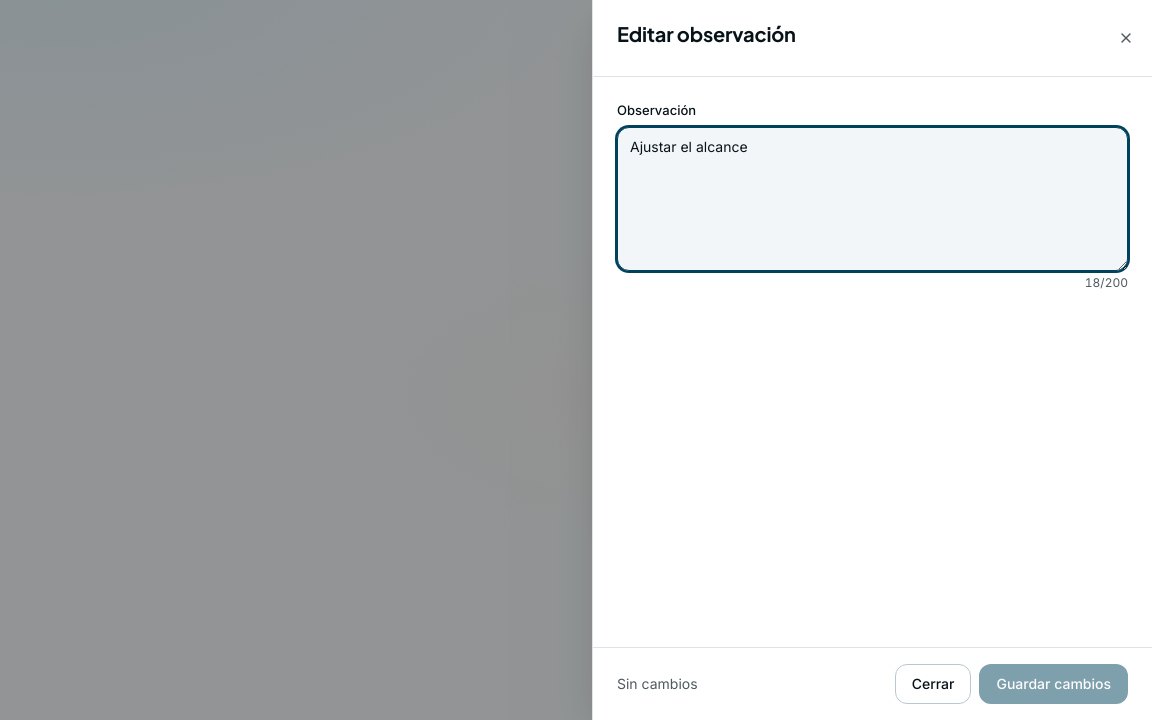
Scenario: EditarObservacionEvaluacionForm › cerrar sin cambios reinicia la mutación y cierra; con cambios pide confirmar
The width and height of the screenshot is (1152, 720).
Click the button "Cerrar".
click(933, 684)  # box [895,664,972,704]
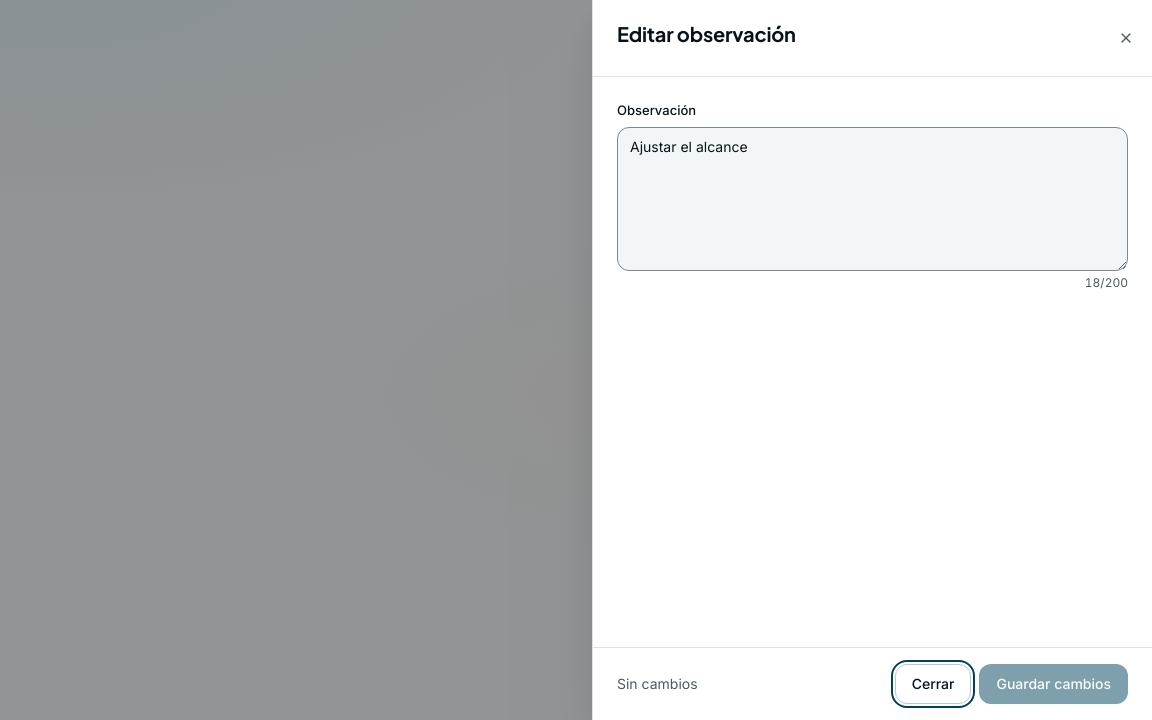
Type "!" into the text box labelled "Observación".
click(872, 198); type("!")  # box [617,126,1128,270]
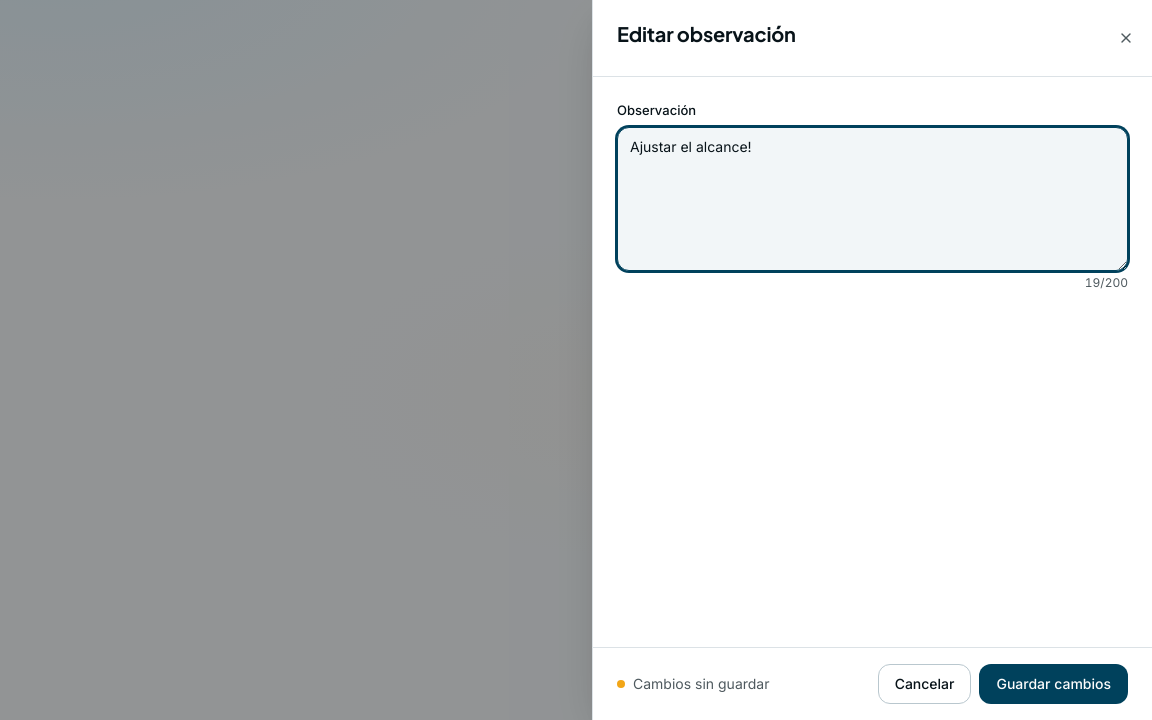
Click the button "Cancelar".
click(924, 684)  # box [878,664,971,704]
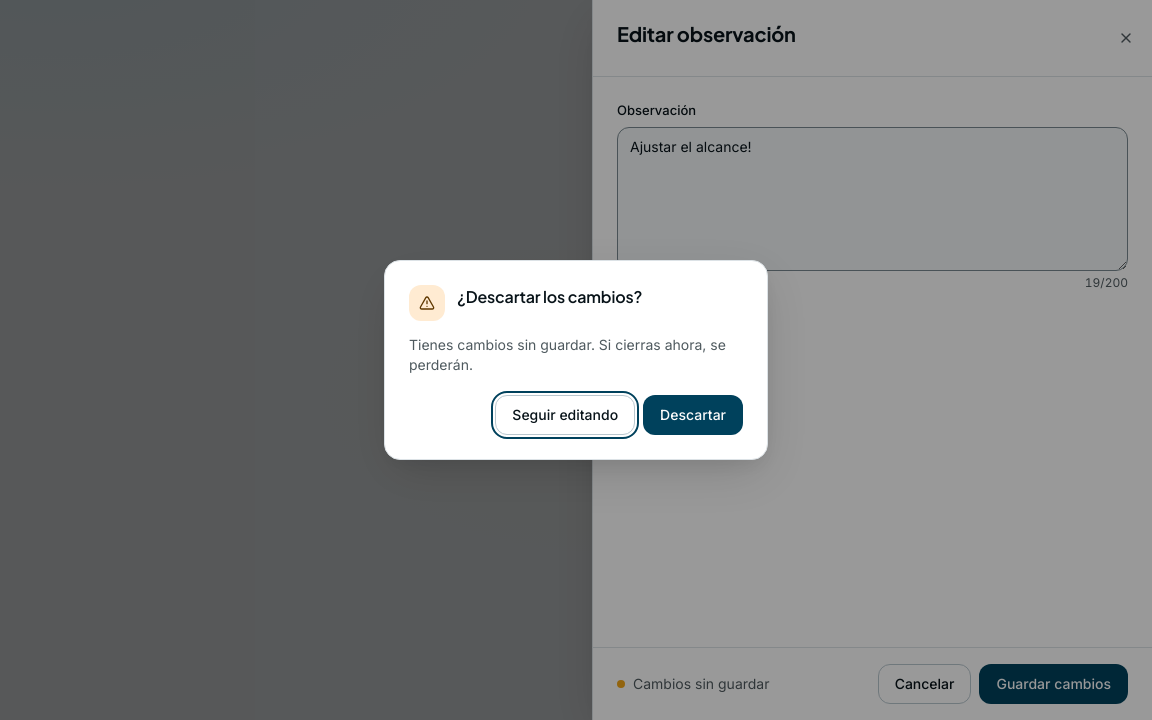
Check: the heading "¿Descartar los cambios?" is shown, box [457,285,642,309]
